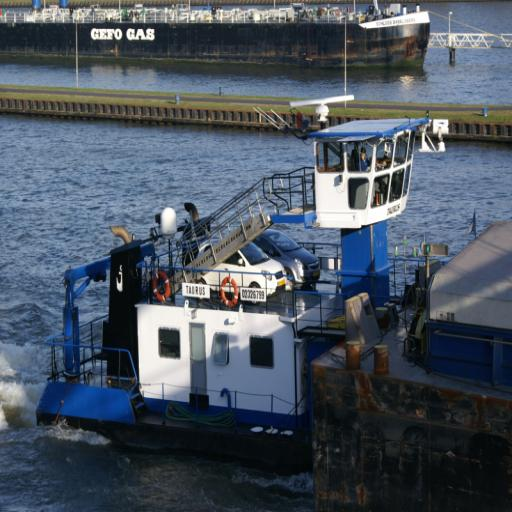tugboat: (30, 92, 456, 465)
